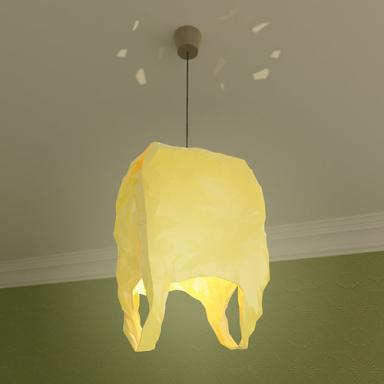plasticbag: (113, 142, 269, 352)
